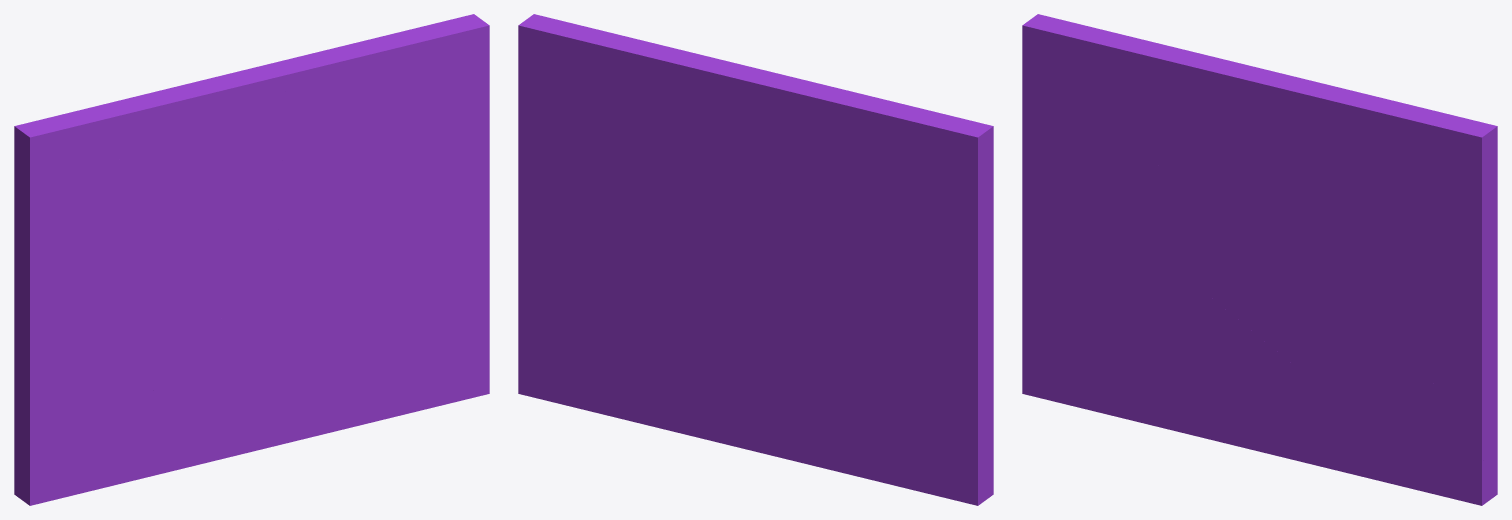
File: Barrier_166_chunks.fbx
The picture shows the model from 3 angles, left to right: view 1: azimuth 30°, elevation 25°; view 2: azimuth 150°, elevation 25°; view 3: azimuth 330°, elevation 25°; orthographic projection.
Visible parts, largest first — view 1: Barrier_166_2, Barrier_166_1, Barrier_166_0, Barrier_166_4, Barrier_166_3, Barrier_166_6; view 2: Barrier_166_2, Barrier_166_1, Barrier_166_4, Barrier_166_5, Barrier_166_0, Barrier_166_6; view 3: Barrier_166_1, Barrier_166_2, Barrier_166_0, Barrier_166_4, Barrier_166_3, Barrier_166_6, Barrier_166_5.
Boxes of the visible parts, bbox=[...] form: Barrier_166_2: bbox=[14, 95, 234, 505]; Barrier_166_1: bbox=[237, 14, 489, 304]; Barrier_166_0: bbox=[86, 72, 286, 285]; Barrier_166_4: bbox=[71, 315, 314, 495]; Barrier_166_3: bbox=[307, 286, 489, 436]; Barrier_166_6: bbox=[212, 262, 393, 346]; Barrier_166_2: bbox=[744, 106, 993, 505]; Barrier_166_1: bbox=[518, 14, 761, 317]; Barrier_166_4: bbox=[689, 318, 914, 490]; Barrier_166_5: bbox=[518, 294, 700, 435]; Barrier_166_0: bbox=[737, 63, 935, 203]; Barrier_166_6: bbox=[638, 273, 779, 344]; Barrier_166_1: bbox=[1261, 68, 1497, 418]; Barrier_166_2: bbox=[1022, 14, 1226, 403]; Barrier_166_0: bbox=[1078, 39, 1278, 273]; Barrier_166_4: bbox=[1063, 292, 1307, 463]; Barrier_166_3: bbox=[1299, 351, 1484, 505]; Barrier_166_6: bbox=[1204, 271, 1385, 369]; Barrier_166_5: bbox=[1482, 417, 1497, 503].
Bounding box in the file's own units: 376 × 288 × 22.1.
